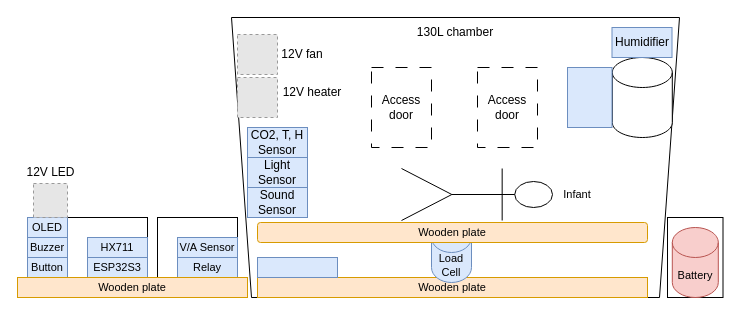
Some shapes in this 741 by 315 pixel diagram are drawn without their labels. Grey dashed boxes stand in for pictures. The shapes that lost their labels are listed below. From the top down, each one's centre as x and y in pixels, then its label:
At point (589, 97): "Water Sensor".
At point (641, 97): "Water reservoir".
At point (297, 267): "Accelerometer".
